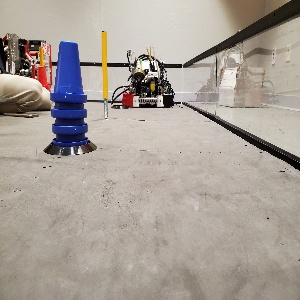Blue_4: (50, 42, 90, 150)
Red_1: (31, 64, 50, 92)
